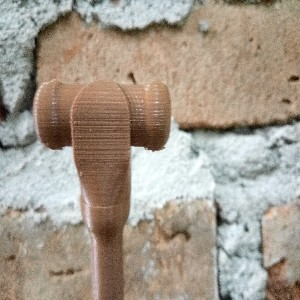palu: (32, 79, 172, 300)
